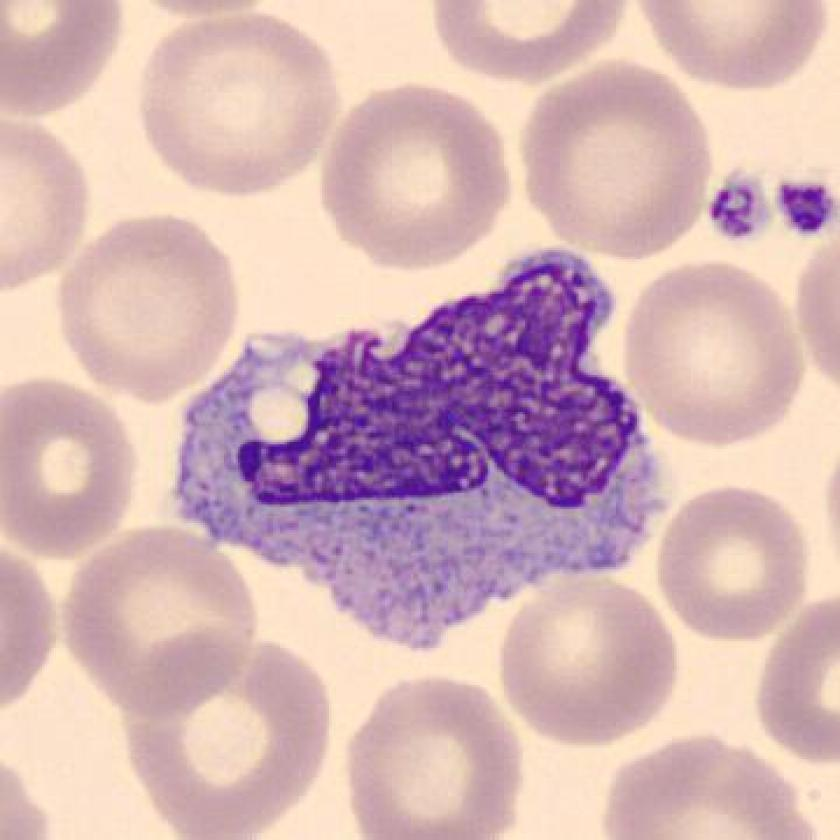monocyte: (162, 240, 692, 654)
